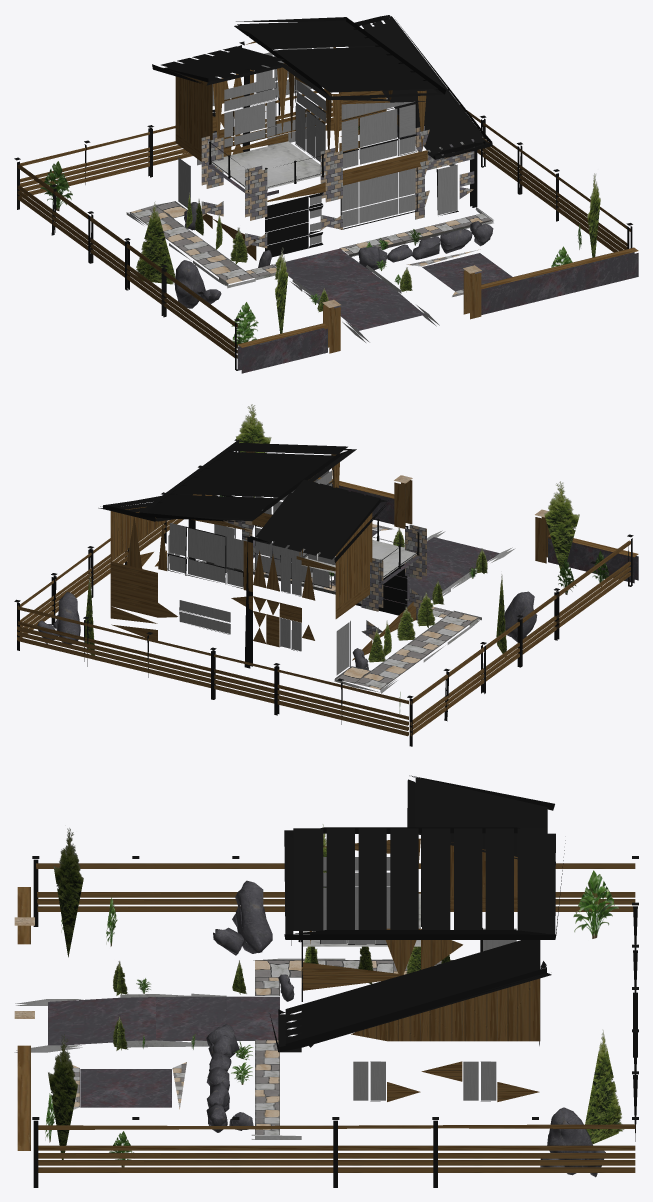
Rendered from house-real-1s3.glb.
The picture shows the model from 3 angles, top to bottom: view 1: azimuth 30°, elevation 25°; view 2: azimuth 150°, elevation 25°; view 3: azimuth 270°, elevation 25°; orthographic projection. The views are drawn at different scales.
Parts seen in each view (by area): view 1: Roof Main, Driveway, Front fence 2, Roof 3, Fence, Path, Fence.002, Window front 2nd floor.001, Window front 1st floor, Fence.001, Balcony wood floor, Garage door (+36 smaller); view 2: Fence.002, Roof Main, Roof 2, Fence, Window front 2nd floor.002, Path, Ref house, Driveway, Ref house.002, Fence.001, Ref house.003, Front fence (+25 smaller); view 3: Roof Main, Fence.001, Roof 3, Driveway, Ref house.006, Fence, Roof 2, Gutter, Path, Front lawn design, rocks, rocks.001 (+19 smaller).
Boxes of the visible parts, x1,y1,x2,y2 form: Roof Main: (237, 20, 437, 94); Driveway: (274, 248, 424, 330); Front fence 2: (481, 247, 638, 314); Roof 3: (348, 15, 485, 157); Fence: (17, 164, 237, 358); Path: (130, 201, 491, 284); Fence.002: (20, 88, 389, 197); Window front 2nd floor.001: (341, 104, 416, 168); Window front 1st floor: (340, 167, 417, 229); Fence.001: (460, 105, 630, 252); Balcony wood floor: (211, 141, 325, 188); Garage door: (265, 192, 323, 257); Fence.002: (17, 606, 408, 736); Roof Main: (147, 443, 347, 518); Roof 2: (250, 479, 380, 559); Fence: (409, 540, 630, 736); Window front 2nd floor.002: (167, 523, 243, 588); Path: (206, 561, 478, 689); Ref house: (110, 561, 252, 640); Driveway: (383, 537, 499, 606); Ref house.002: (335, 512, 372, 660); Fence.001: (17, 495, 215, 639); Ref house.003: (253, 550, 315, 647); Front fence: (548, 535, 638, 583); Roof Main: (293, 827, 547, 934); Fence.001: (38, 1124, 635, 1172); Roof 3: (285, 940, 546, 1049); Driveway: (48, 996, 279, 1045); Ref house.006: (351, 978, 540, 1101); Fence: (36, 863, 635, 911); Roof 2: (415, 777, 547, 859); Gutter: (284, 775, 565, 945); Path: (255, 960, 453, 1134); Front lawn design: (72, 1062, 186, 1109); rocks: (206, 1024, 253, 1132); rocks.001: (213, 880, 272, 955).
Bounding box in the file's own units: 20.97 × 8.4 × 20.97.
Materials: 4 (4 with a texture image).
